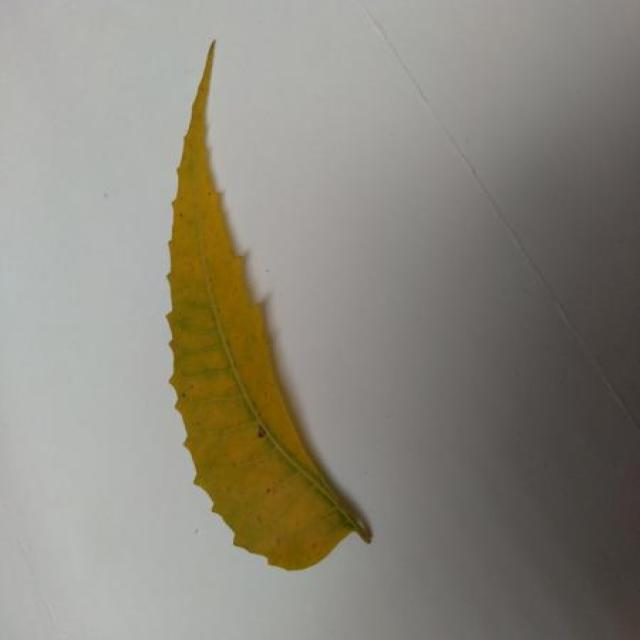neem: (168, 42, 372, 569)
